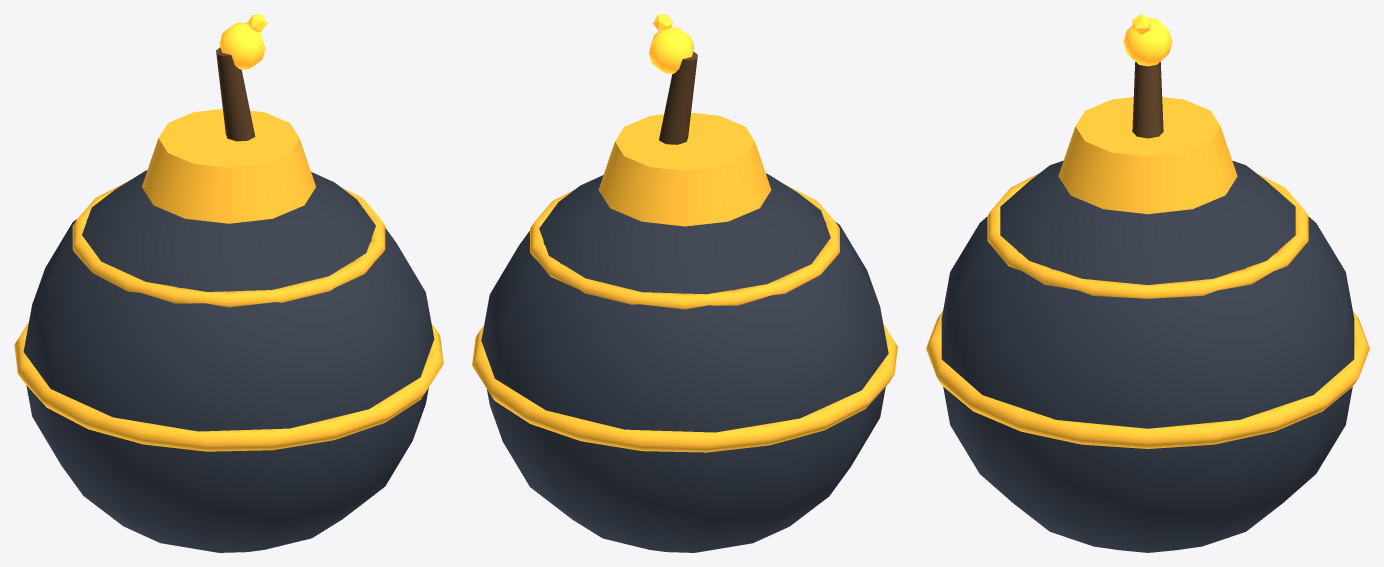
File: bomba.glb
3 views of the same model, side by side, from view 1: azimuth 30°, elevation 25°; view 2: azimuth 150°, elevation 25°; view 3: azimuth 270°, elevation 25° (orthographic). The views are drawn at different scales.
Parts seen in each view (by area): view 1: Bomba; view 2: Bomba; view 3: Bomba.
Boxes of the visible parts, left/top/right/bottom form: Bomba: left=14, top=14, right=443, bottom=552; Bomba: left=472, top=14, right=897, bottom=552; Bomba: left=926, top=14, right=1369, bottom=552.
Bounding box in the file's own units: 2.08 × 2.74 × 2.08.
